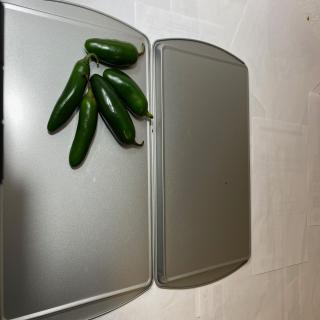Chilli: (47, 38, 153, 168), (47, 52, 99, 132), (89, 73, 144, 147), (69, 72, 98, 168), (102, 68, 153, 120), (84, 37, 145, 67)
